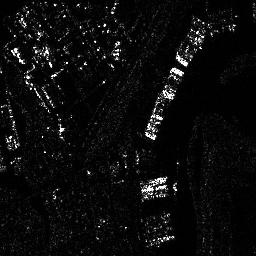ship: (137, 175, 169, 186)
